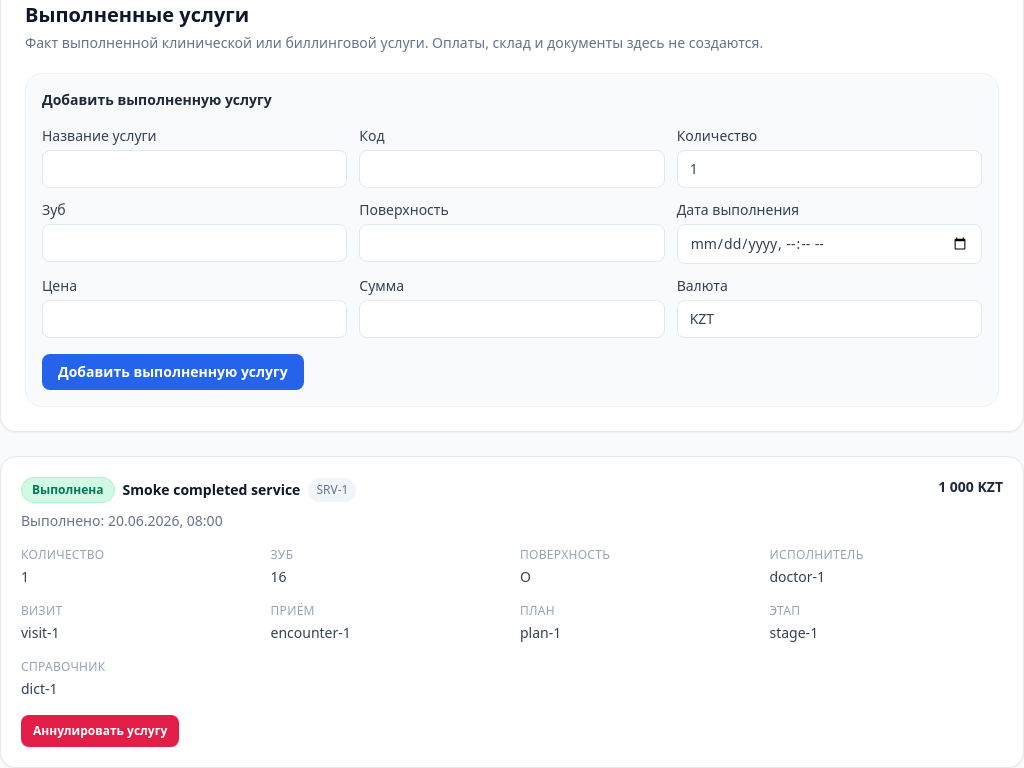
Test: CompletedServicesPanel › void form requires reason before submit
The width and height of the screenshot is (1024, 768).
(page scrolled)
Click the button with test id "completed-service-void-service-1".
click(100, 731)  # box [21, 715, 179, 747]
(page scrolled)
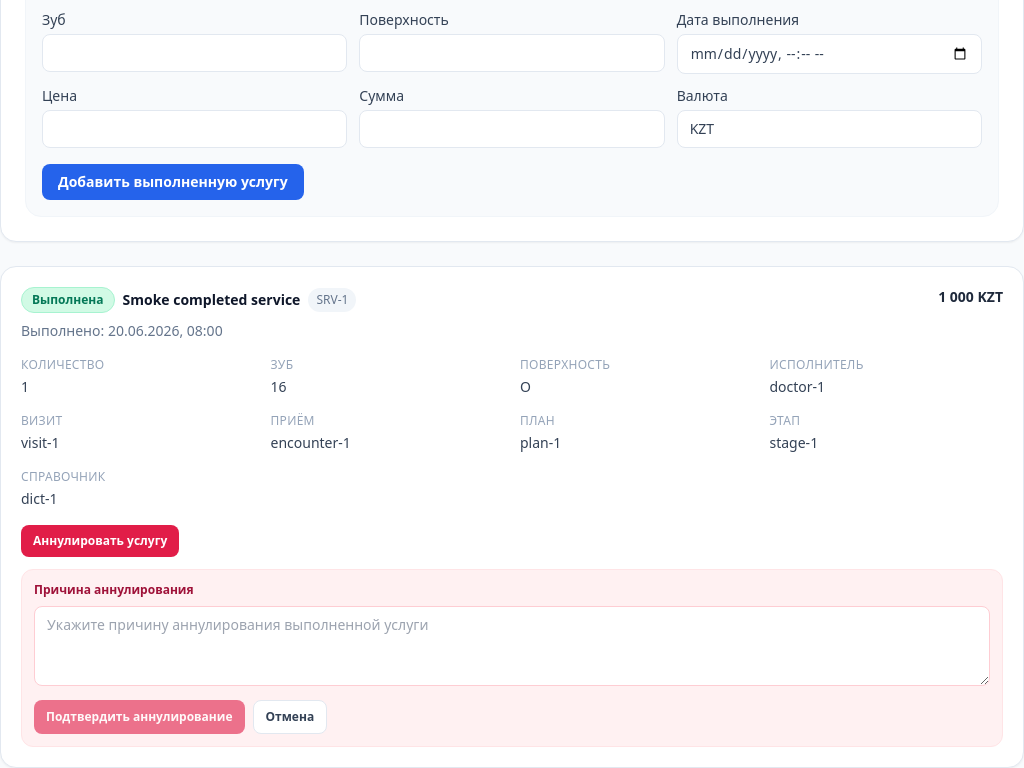
expect the button with test id "completed-service-void-confirm-service-1" is disabled: met, box [34, 700, 244, 734]
